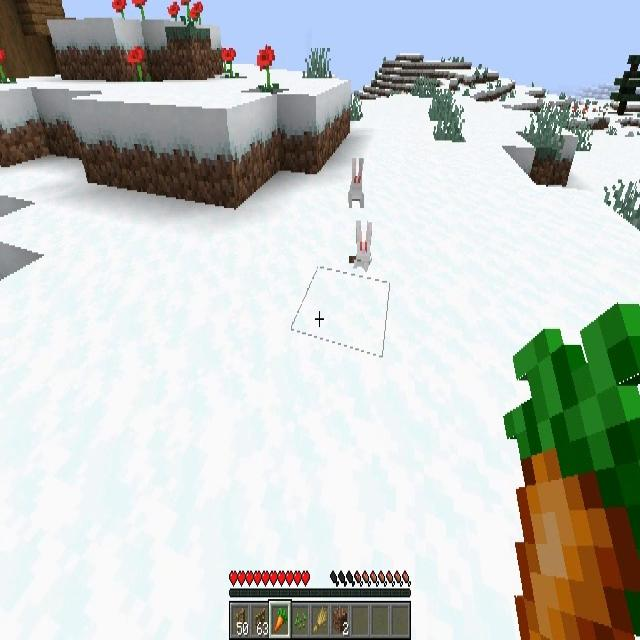rabbit: (353, 219, 374, 271), (348, 158, 364, 210)
